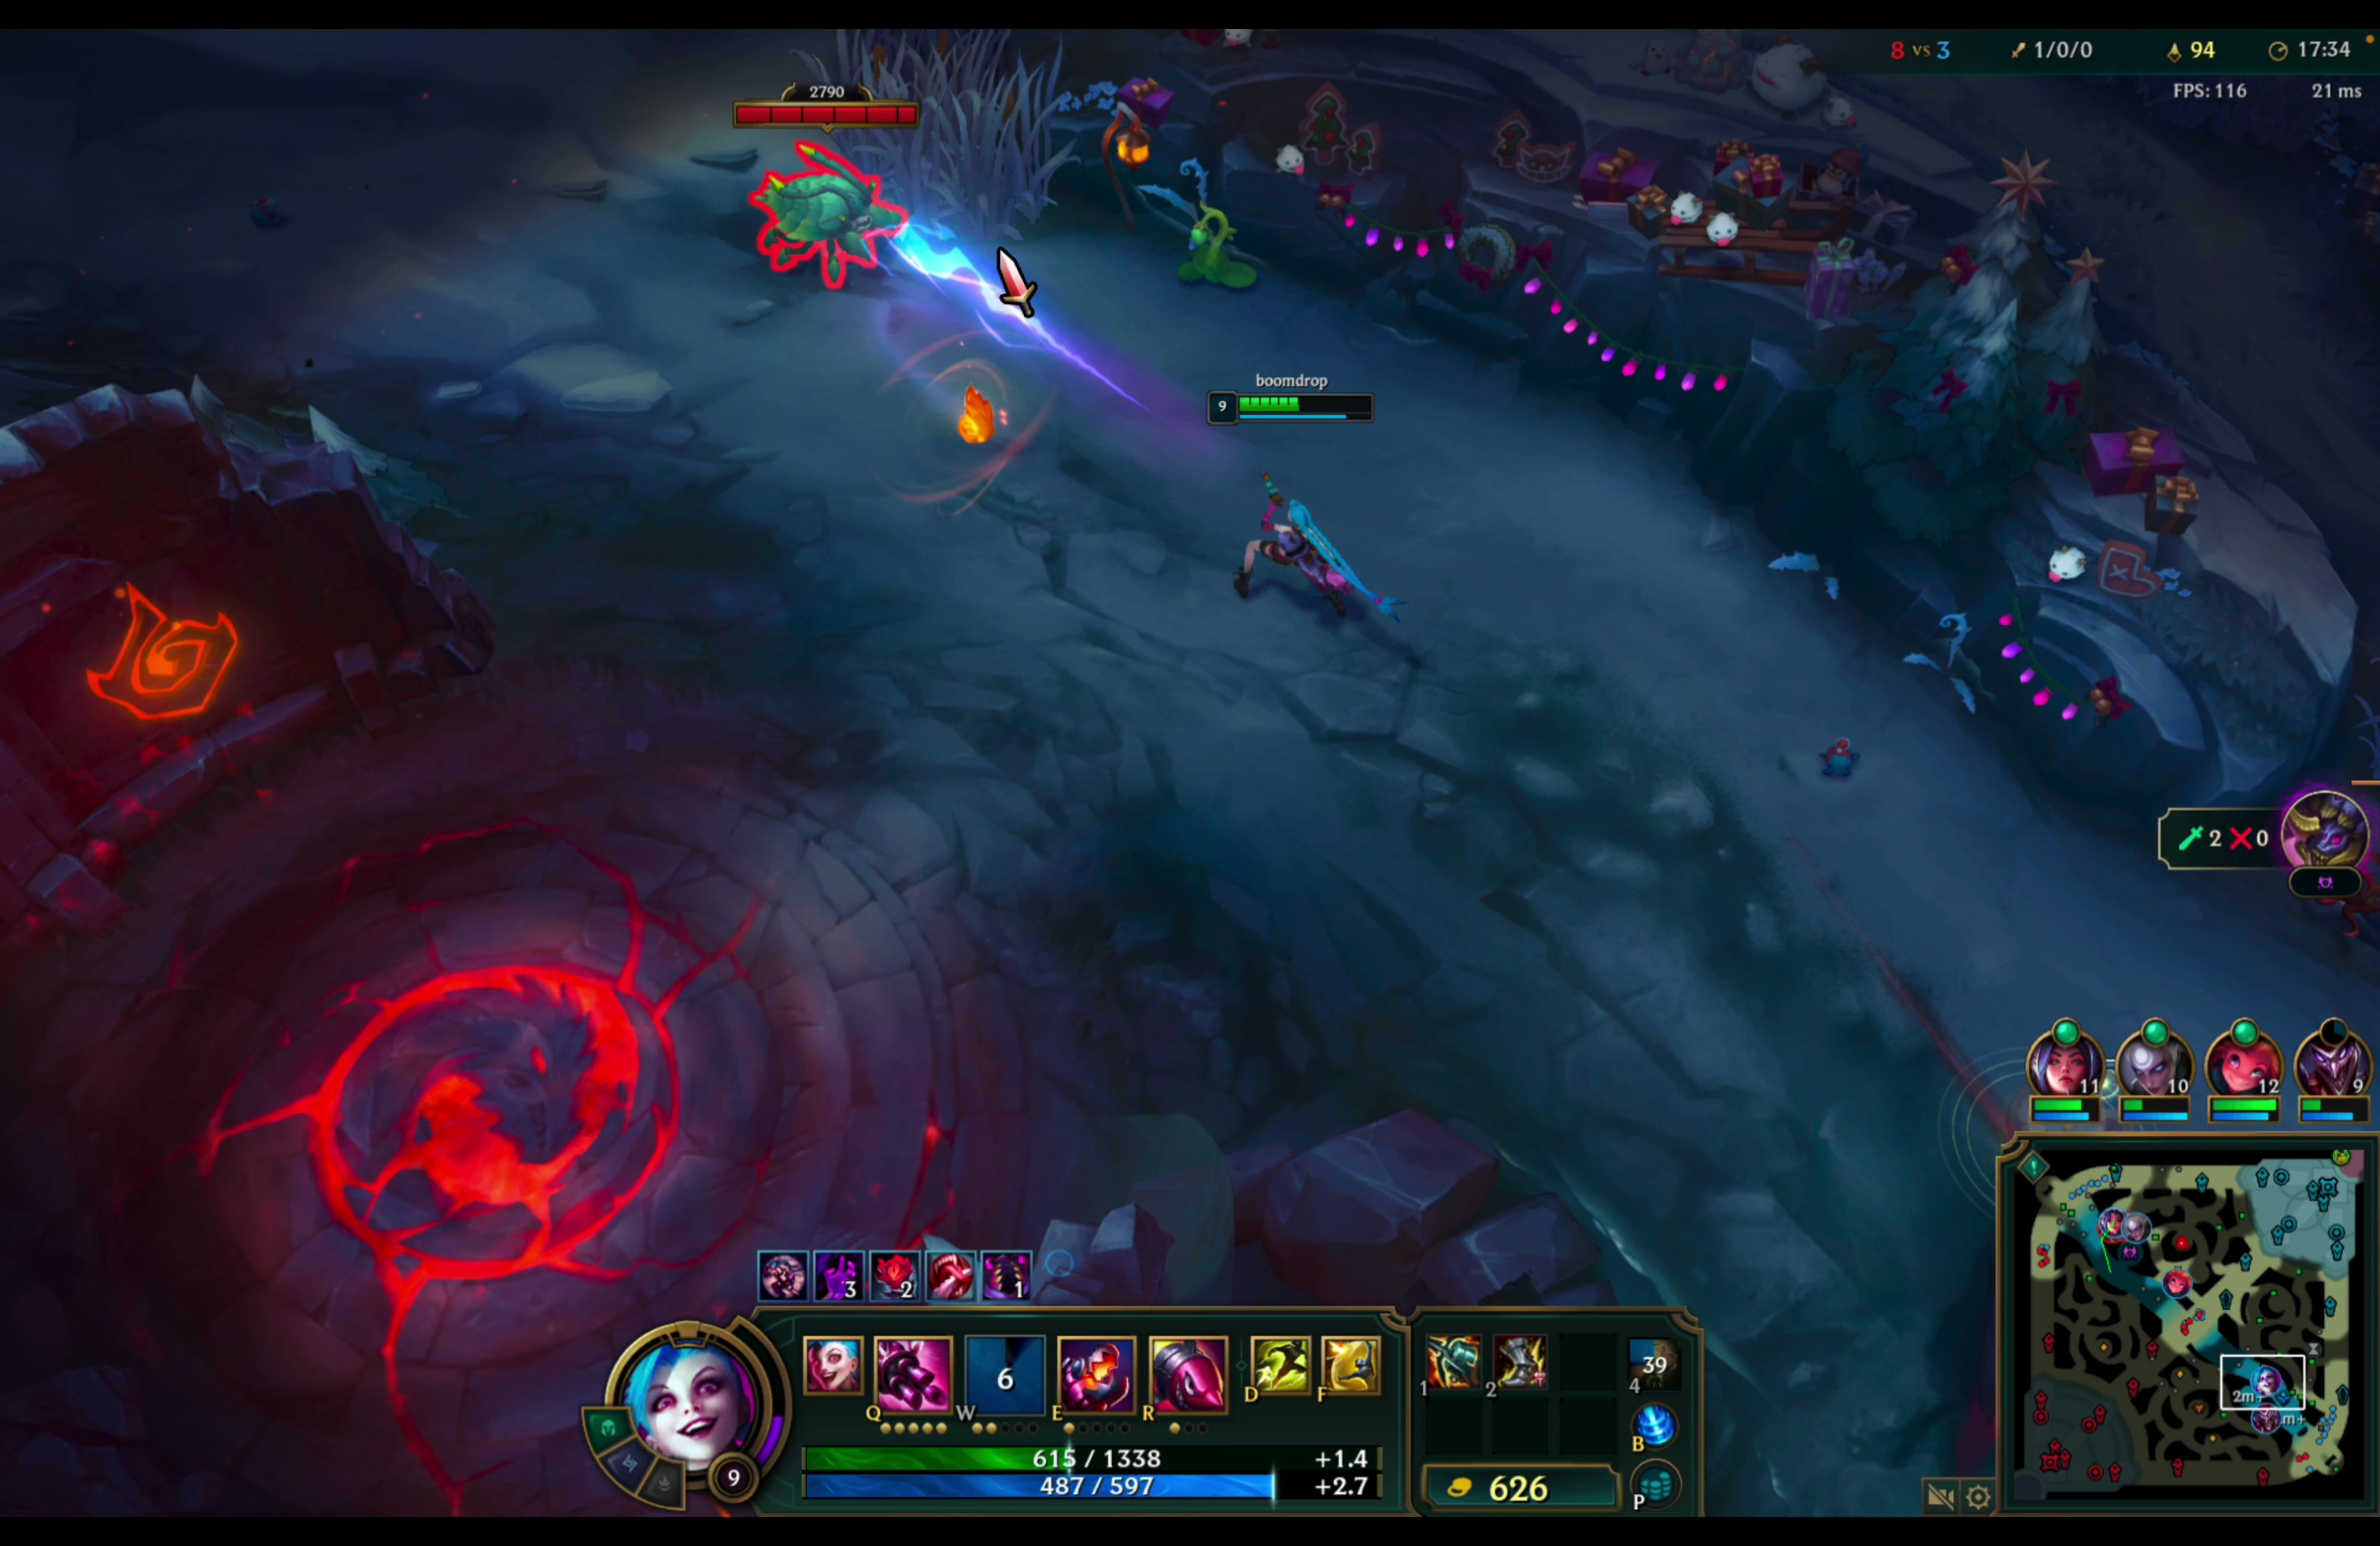LABEL_W_PROJECTILE: (860, 191, 1447, 691)
